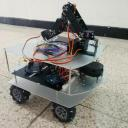cart: (4, 34, 106, 124)
